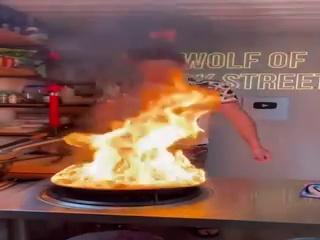Fire: (54, 69, 226, 184)
